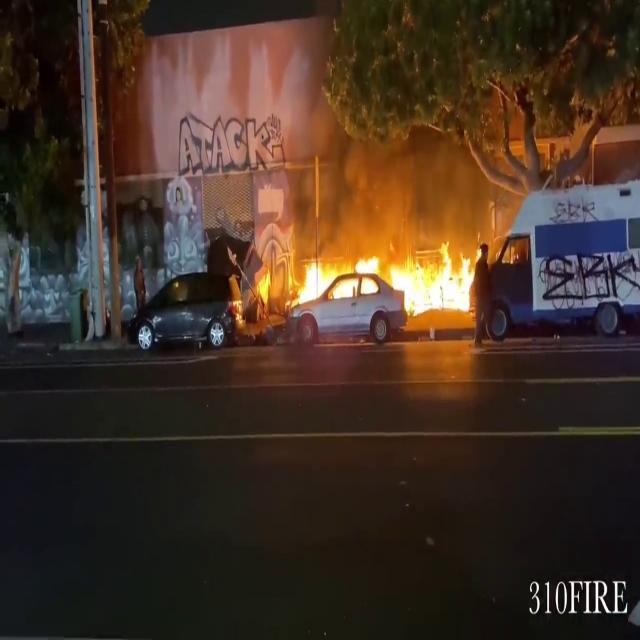Fire: (284, 232, 480, 324)
Smoke: (304, 106, 512, 251)
